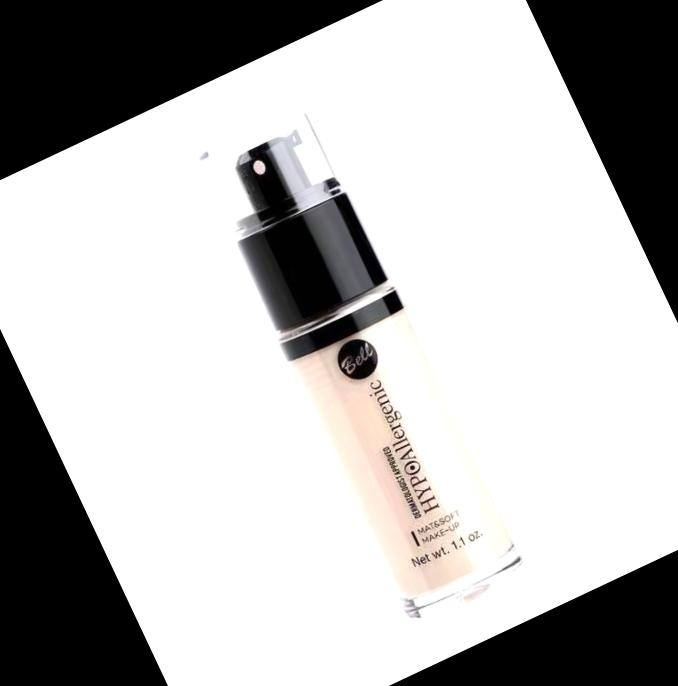cosmetic: (191, 101, 529, 627)
